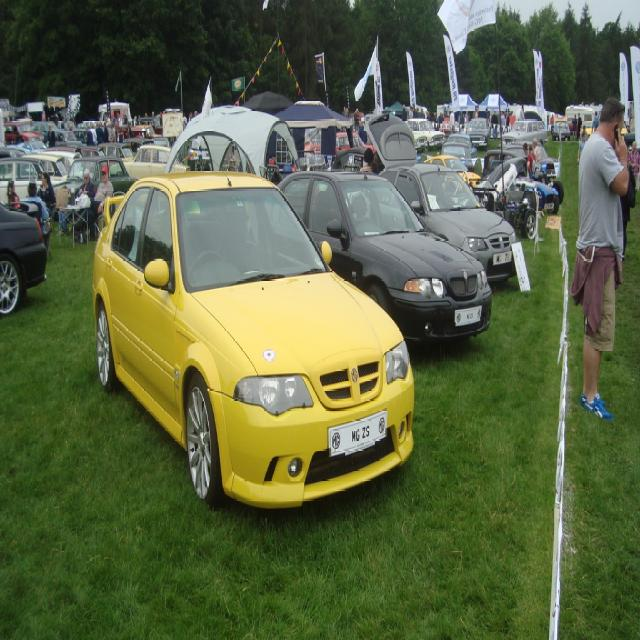car: (85, 164, 410, 510), (0, 112, 566, 216)
